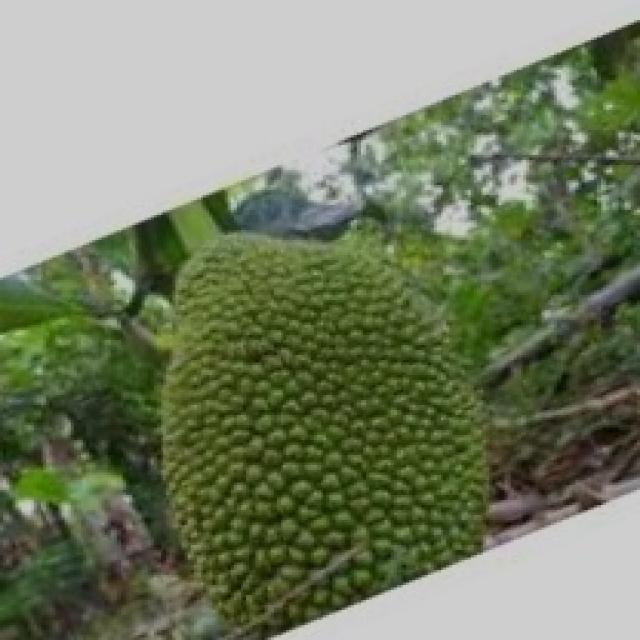Fruit: (108, 187, 535, 635)
